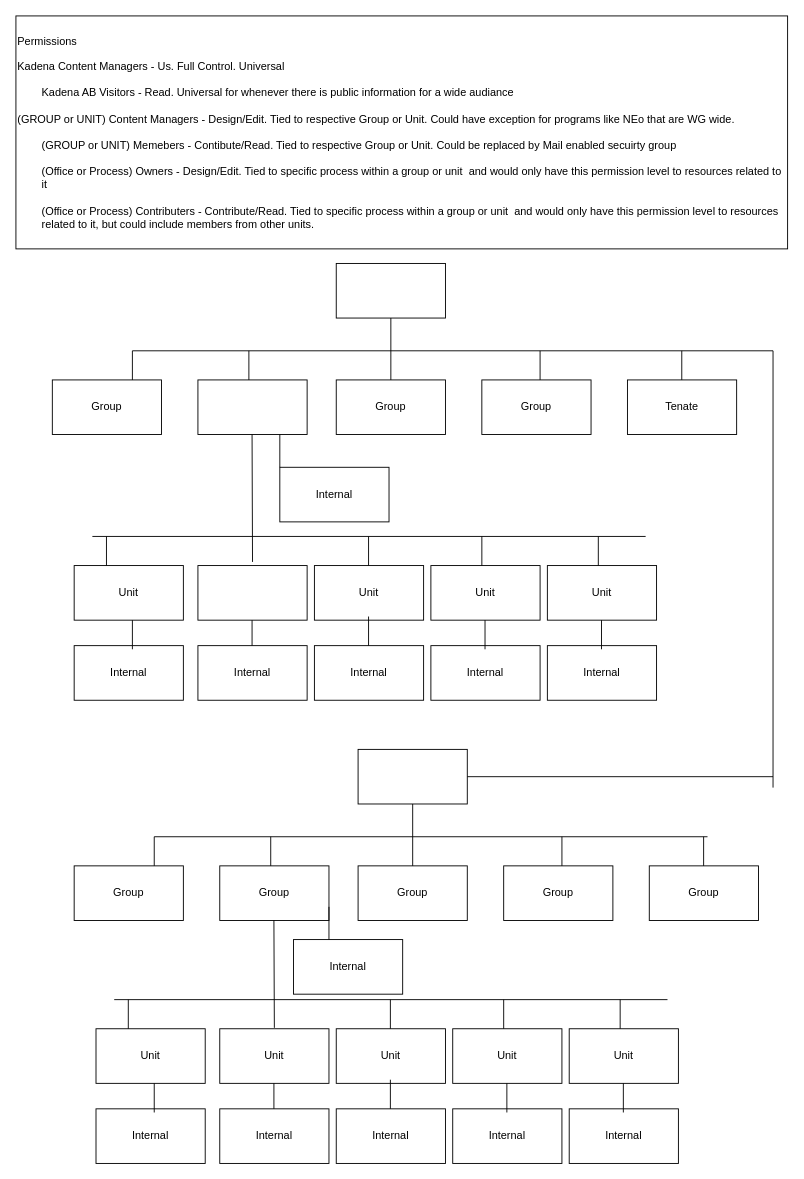
Some shapes in this 804 by 1179 pixel diagram are drawn without their labels. Here are the shapes that lost their labels. From the top down, the box of each, then its label:
(335, 263, 445, 318): Kadena AB
(197, 379, 307, 435): 18 MSG
(197, 565, 307, 620): 18 CS
(357, 748, 467, 804): SOW
